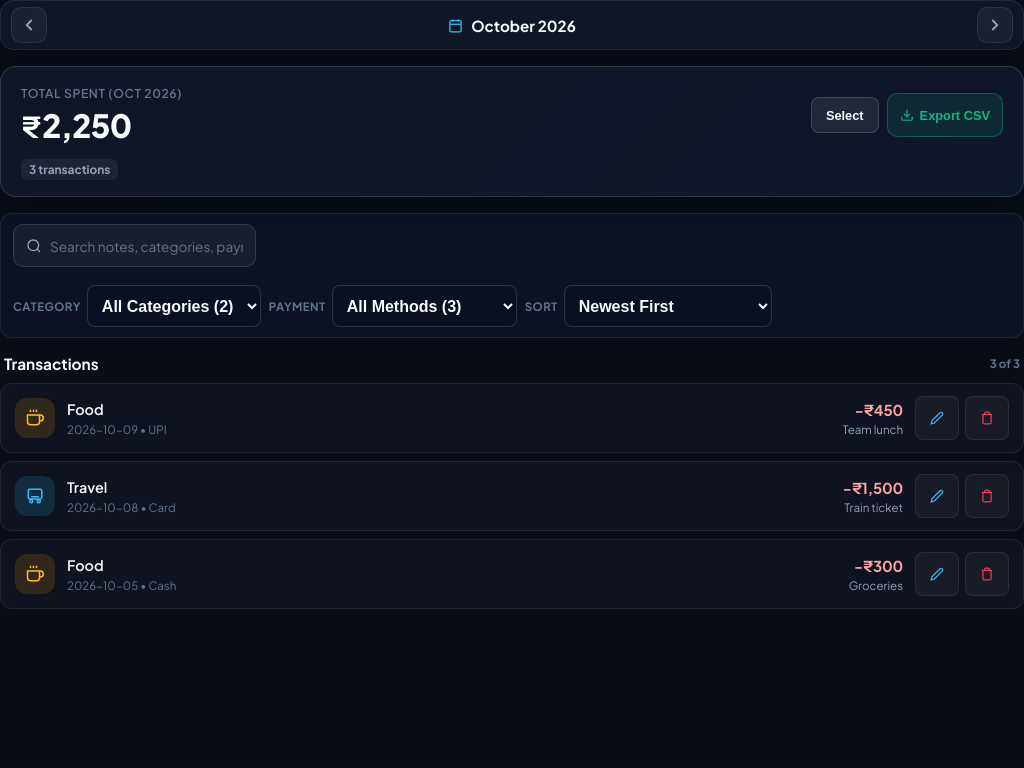
Test: ExpensesView filter visibility and clearing behavior (DEF-04) › Clear Filters resets both category and payment filters and restores all transactions
Select "Food" in the dropdown with id "filter-category-select" at (174, 306), box [87,285,261,327]
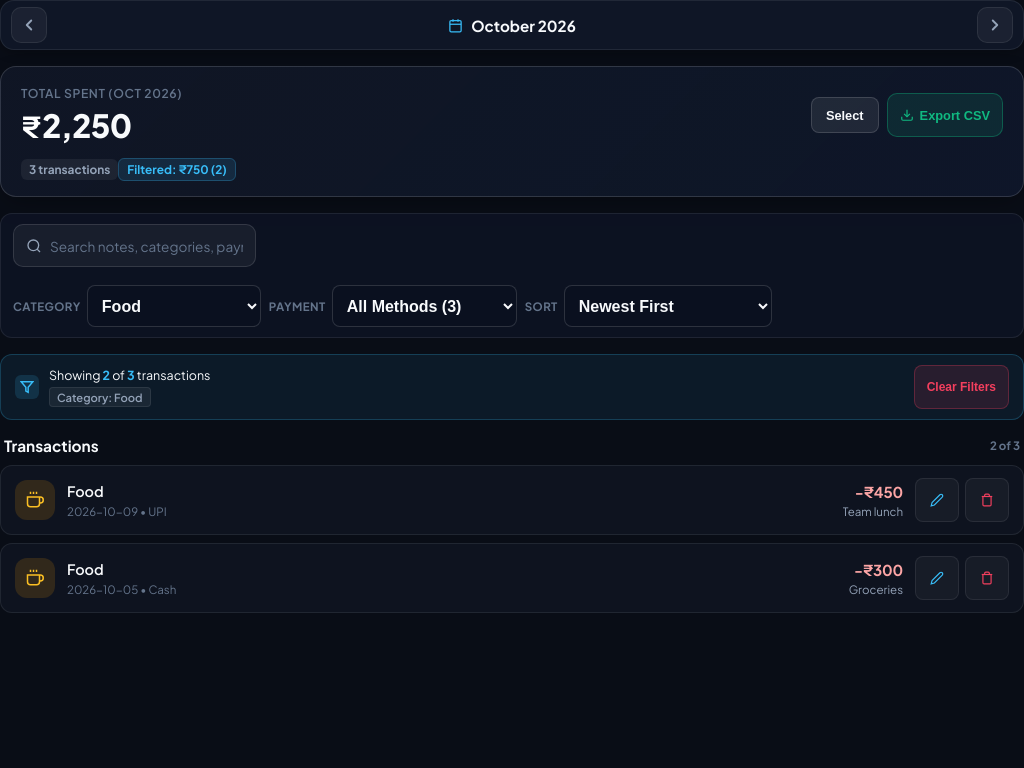
Select "UPI" in the dropdown with id "filter-method-select" at (424, 306), box [332,285,517,327]
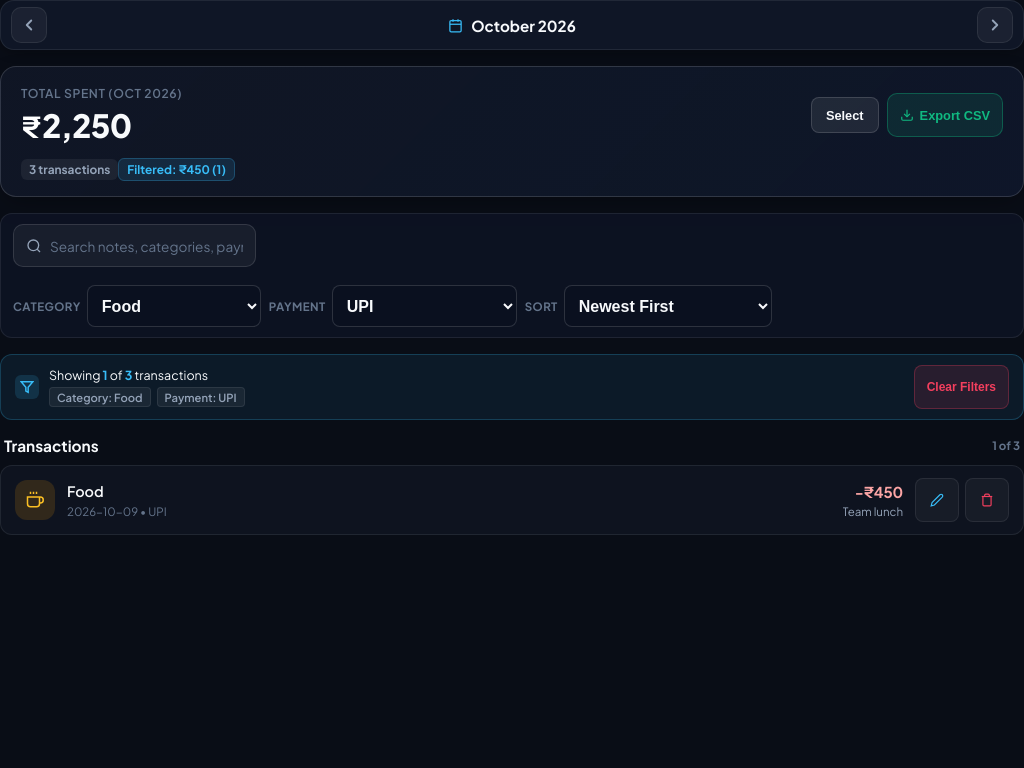
expect the button with class "btn-clear-filters-banner" is shown: met
expect the number of buttons with class "expense-ledger-item" is 1: met, box [0,465,1023,535]
Click the button with class "btn-clear-filters-banner".
click(961, 387)  # box [914,365,1009,409]
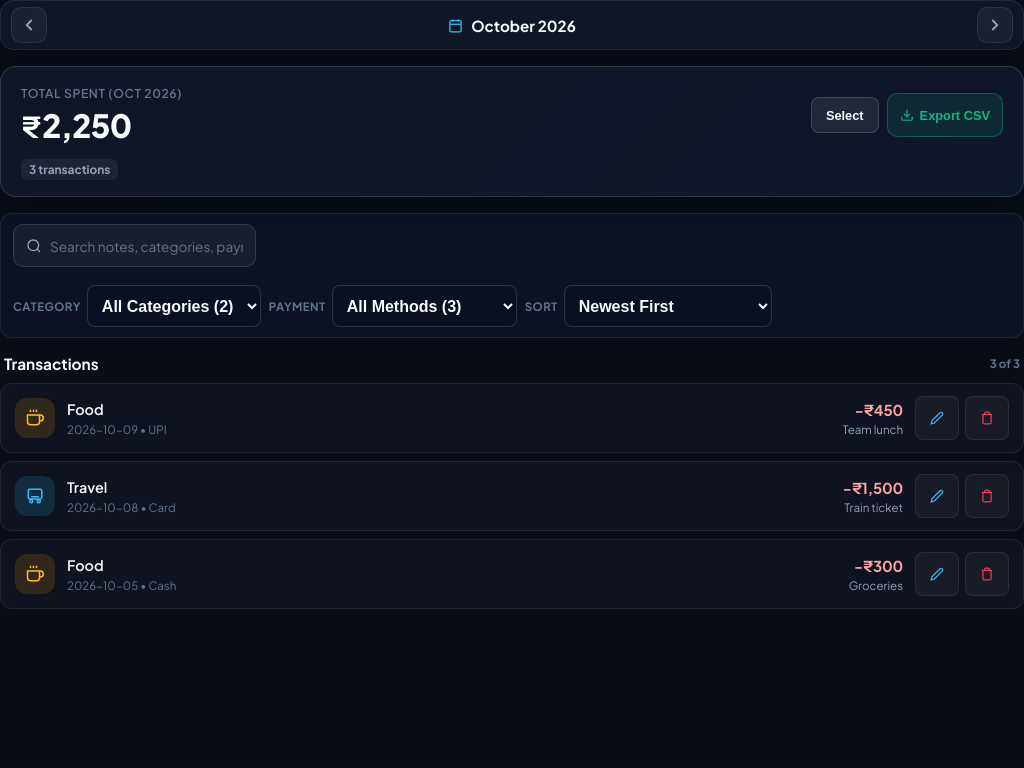
expect the message with class "active-filters-banner" is gone: met
expect the number of buttons with class "expense-ledger-item" is 3: met, box [0,383,1023,453]; [0,461,1023,531]; [0,539,1023,609]
